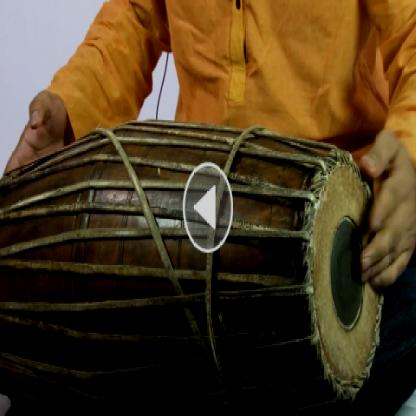Mridangam: (4, 112, 391, 411)
